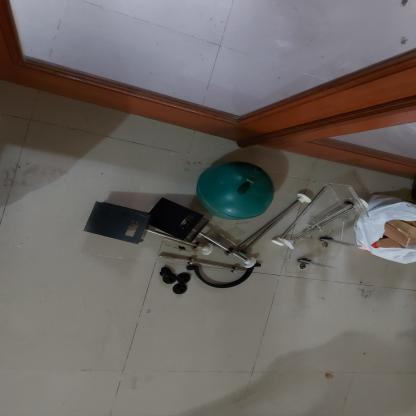green_buoy: (193, 158, 278, 221)
